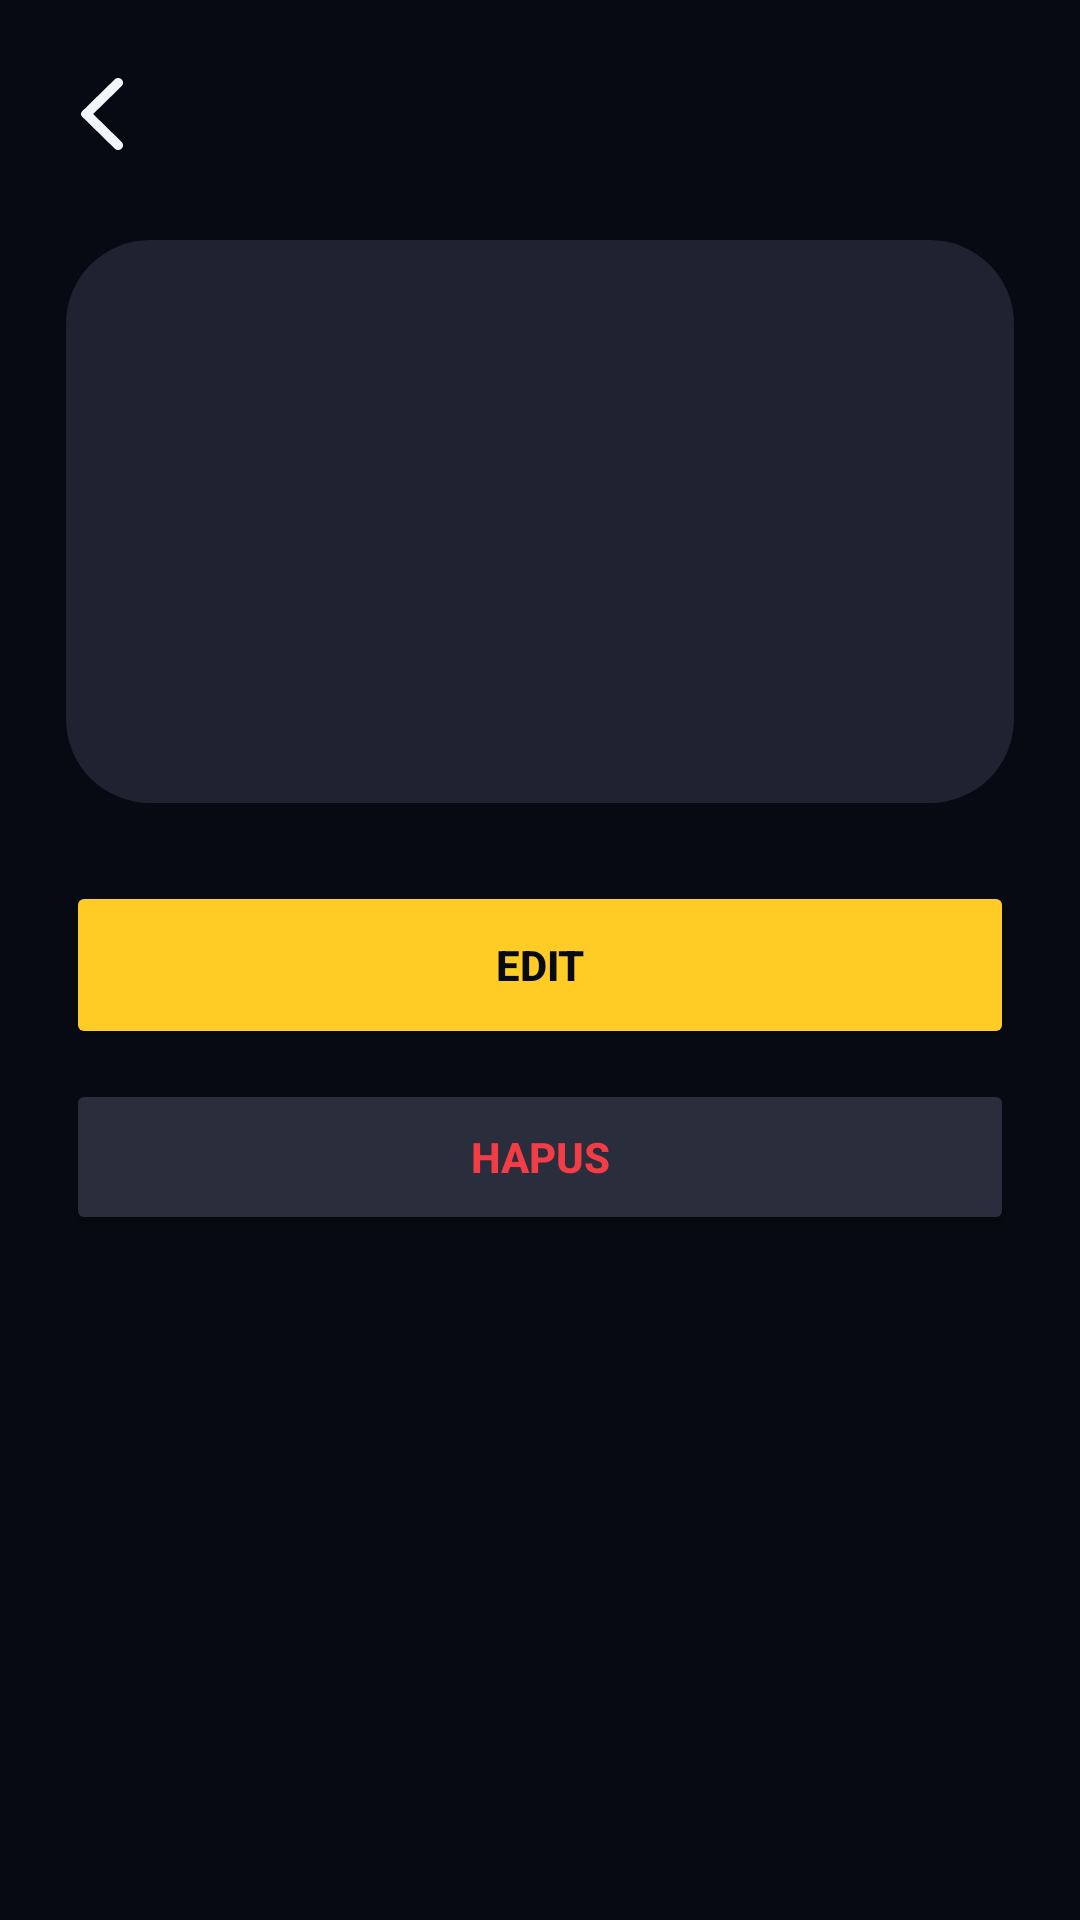

Named icons in this screenshot (1080 × 1920) and their bounding boxes, (x1, y1, x2, y2):
Kembali: (81, 78, 123, 150)
